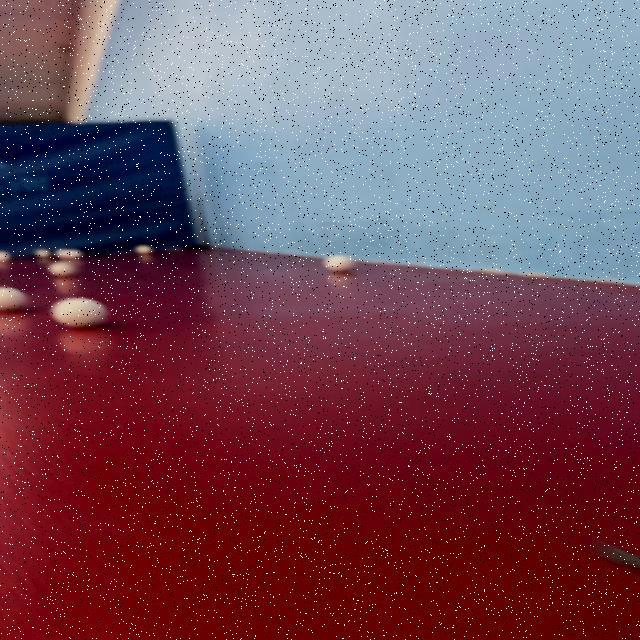ping-pong-ball: (40, 288, 114, 328), (316, 245, 368, 278), (40, 256, 80, 282), (0, 286, 34, 314), (26, 243, 64, 266), (52, 242, 82, 266), (129, 240, 160, 262)
